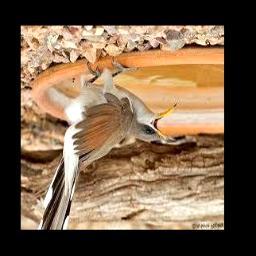Cuckoo: (37, 61, 177, 230)
